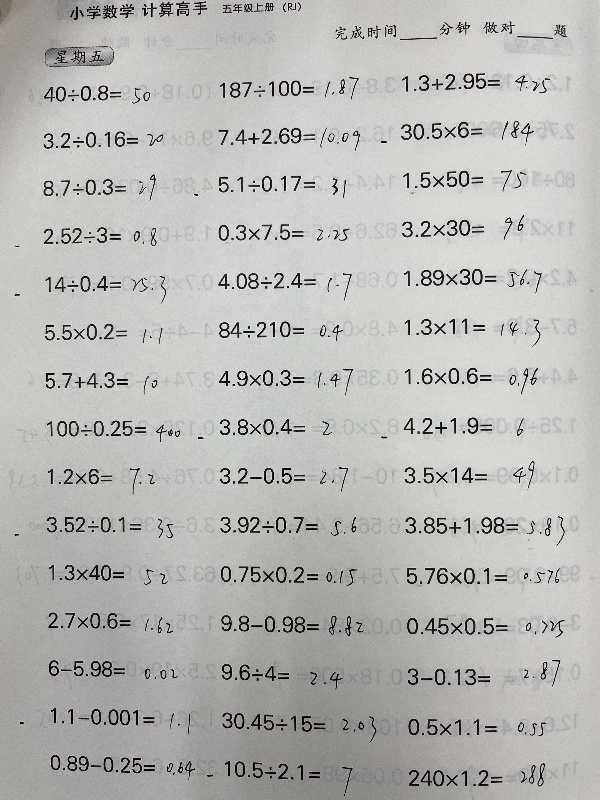equation: (46, 703, 196, 744), (217, 709, 379, 744), (402, 613, 568, 646), (402, 657, 563, 689), (400, 314, 547, 349), (221, 757, 356, 795), (396, 68, 556, 100), (215, 364, 356, 398), (213, 267, 354, 301), (405, 515, 570, 544), (218, 659, 349, 695), (43, 512, 178, 546), (401, 363, 544, 395), (400, 462, 538, 495), (41, 271, 170, 306), (399, 261, 544, 292), (43, 655, 181, 687), (402, 562, 565, 589), (216, 72, 362, 102), (216, 463, 352, 495), (214, 121, 363, 150), (406, 763, 549, 793), (399, 164, 528, 197), (213, 170, 350, 201), (215, 610, 366, 638), (403, 714, 548, 743), (41, 755, 196, 782), (399, 413, 528, 445), (399, 118, 535, 148), (39, 170, 159, 203), (42, 414, 183, 442), (397, 214, 533, 243), (45, 560, 172, 591), (215, 511, 359, 538), (40, 318, 167, 348), (215, 561, 359, 587), (214, 317, 344, 345), (213, 218, 351, 244), (216, 414, 335, 444), (40, 367, 159, 397), (43, 466, 162, 496), (43, 607, 176, 633), (39, 221, 159, 248), (38, 126, 166, 150), (38, 80, 153, 106)
